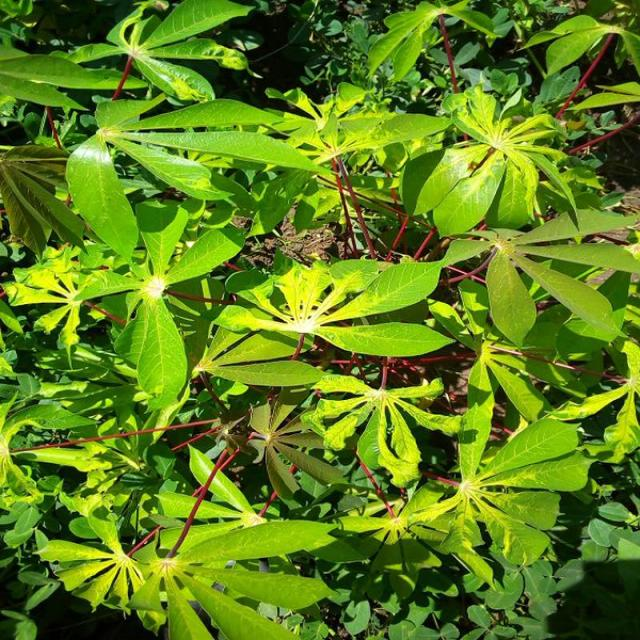cassava leaf: (1, 2, 638, 637), (64, 130, 139, 261)
